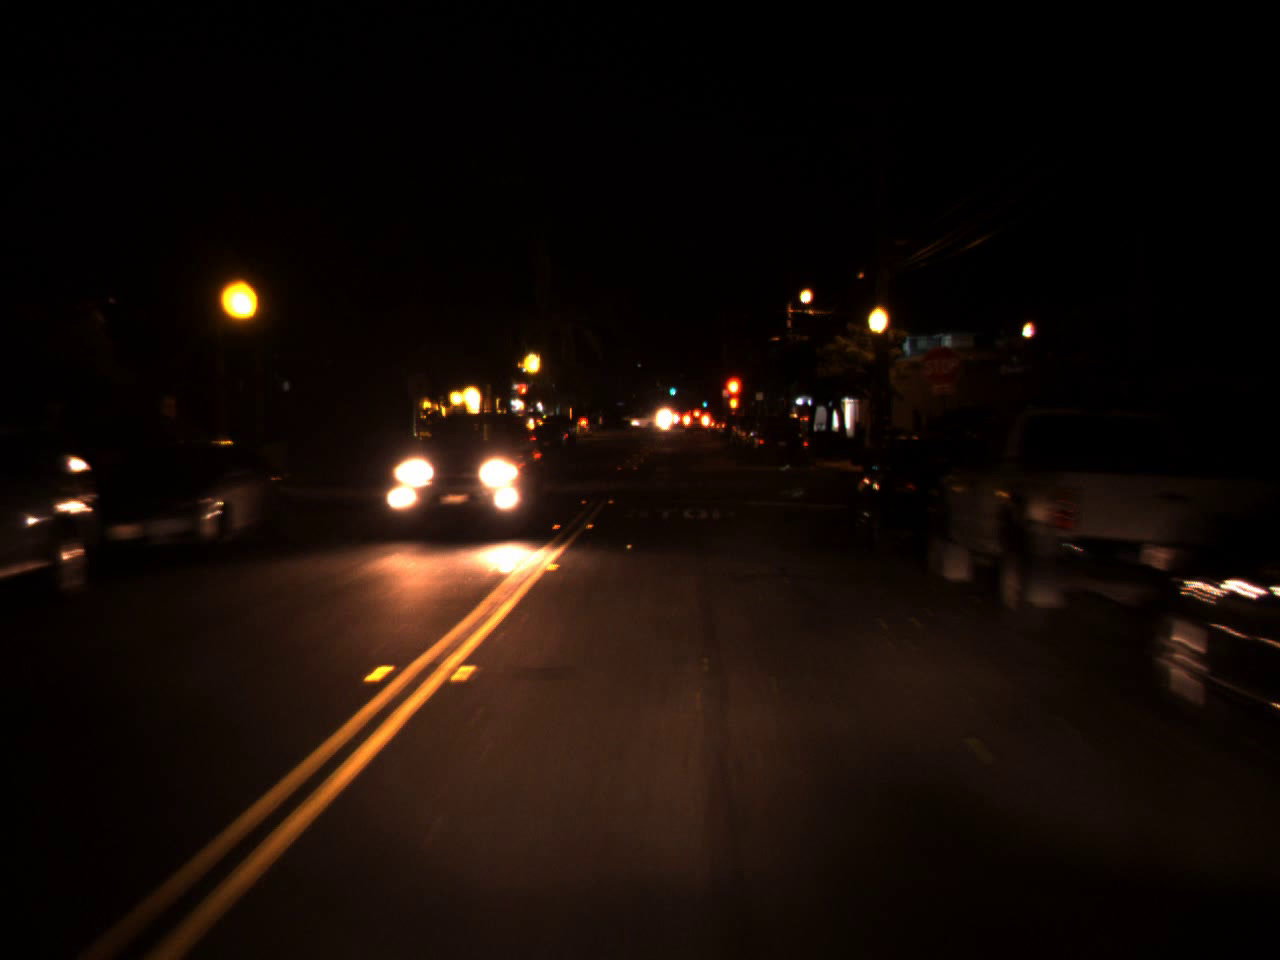go: (667, 381, 676, 396)
stop: (724, 377, 739, 404), (516, 382, 528, 403)
